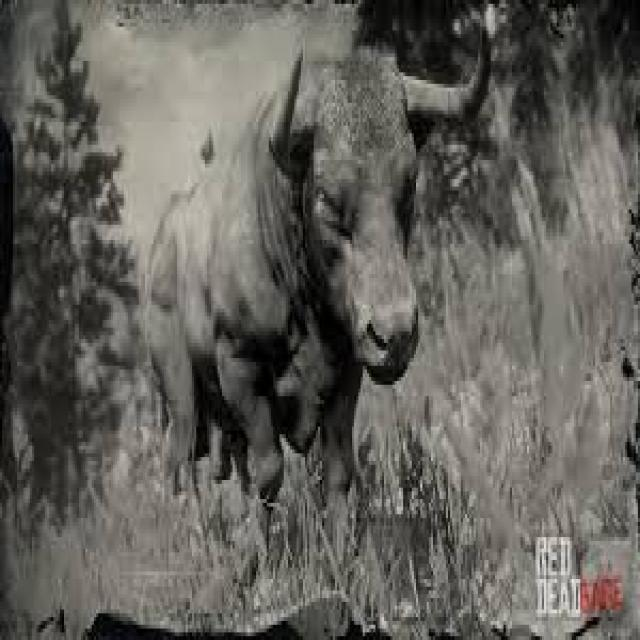Ox: (145, 10, 491, 510)
